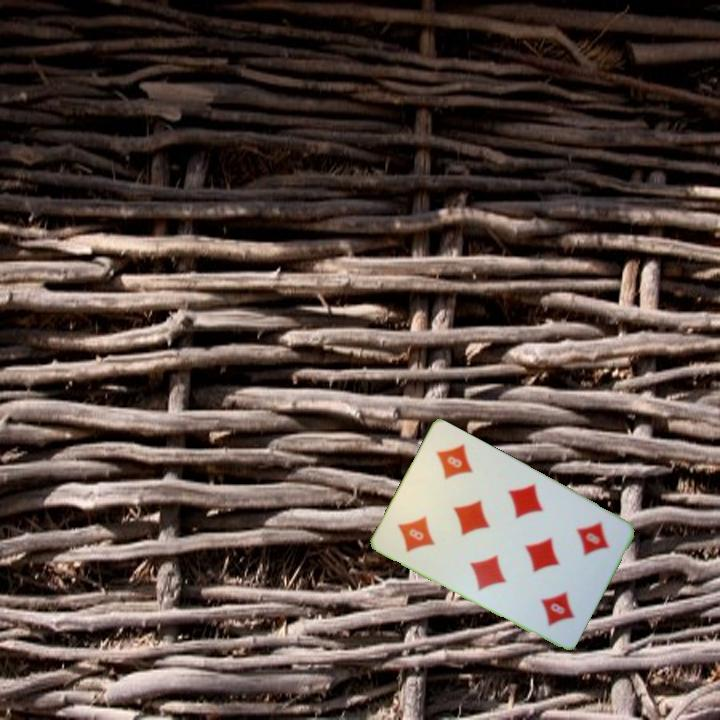d_8.png: (545, 502, 626, 587), (381, 484, 461, 568)
